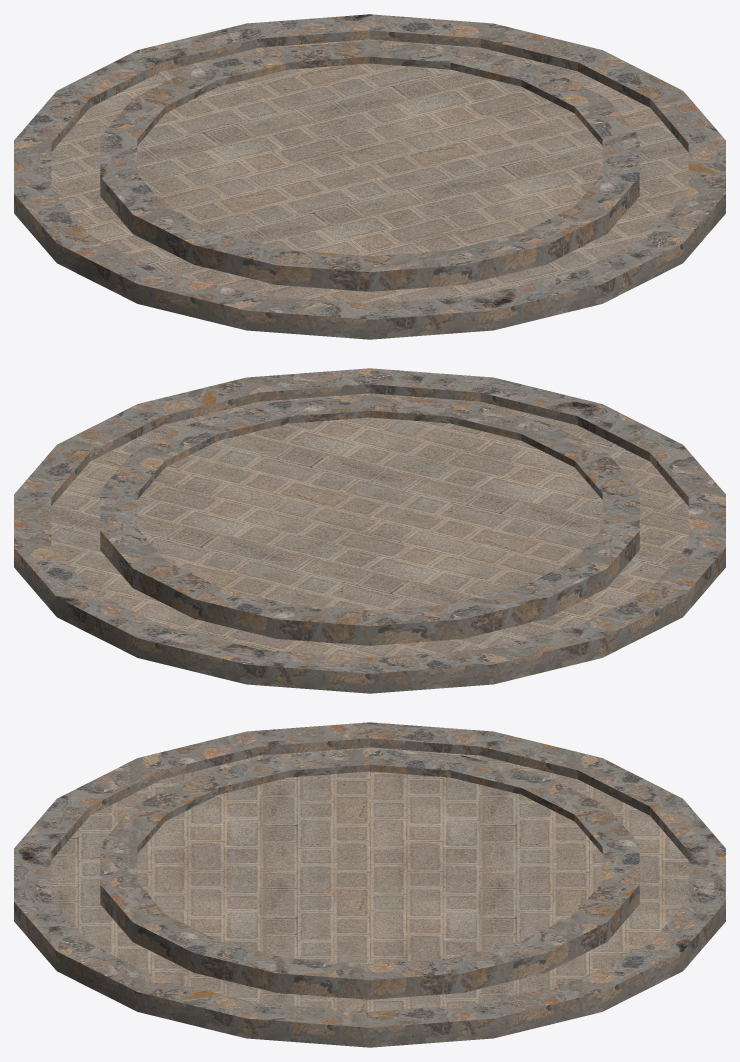
File: OU_AR_Well_Base_02_D.fbx
The picture shows the model from 3 angles, top to bottom: view 1: azimuth 30°, elevation 25°; view 2: azimuth 150°, elevation 25°; view 3: azimuth 270°, elevation 25°; orthographic projection.
Visible parts, largest first — view 1: Well_Base; view 2: Well_Base; view 3: Well_Base.
Part boxes in pixels (x1,y1,x2,y2): Well_Base: [14, 14, 725, 339]; Well_Base: [14, 368, 725, 693]; Well_Base: [14, 722, 725, 1047].
Bounding box in the file's own units: 660 × 30.68 × 650.
Materials: 2 (2 with a texture image).
